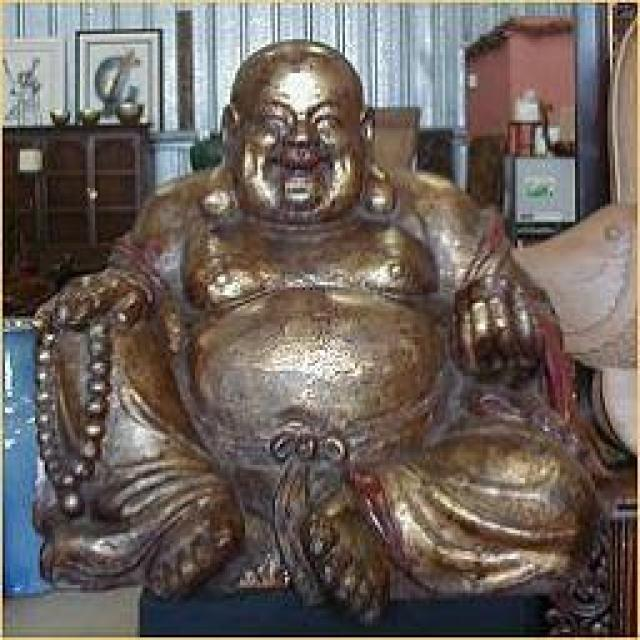Smiling Buddha: (162, 24, 464, 458)
